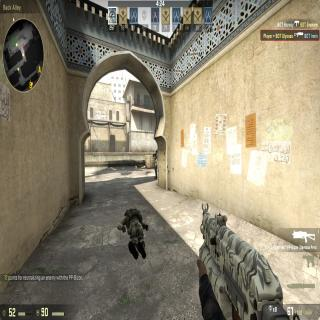CT-Body: (154, 148, 158, 179)
CT-Head: (155, 148, 158, 154)
